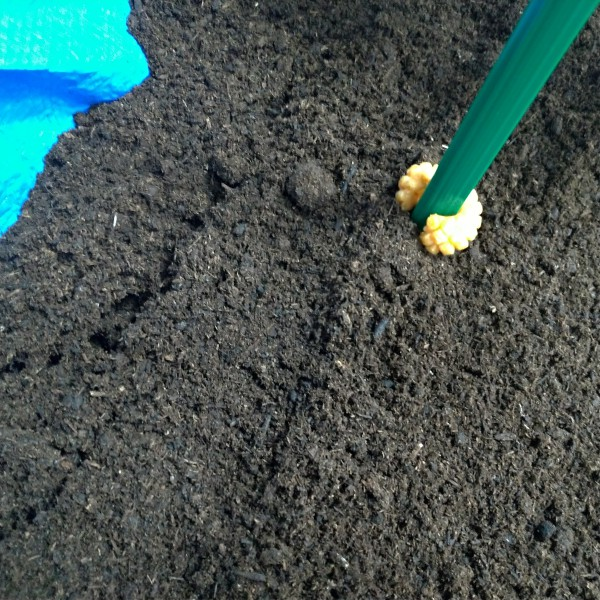eggs: (387, 151, 487, 261)
